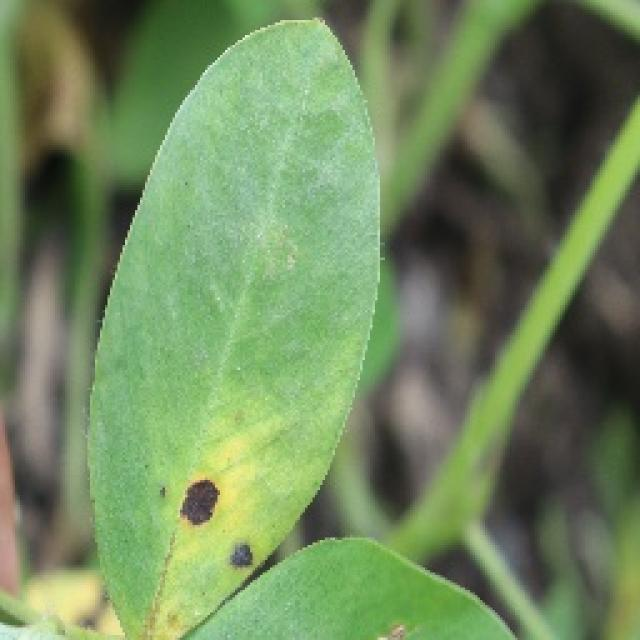Yellowish: (161, 435, 297, 586)
